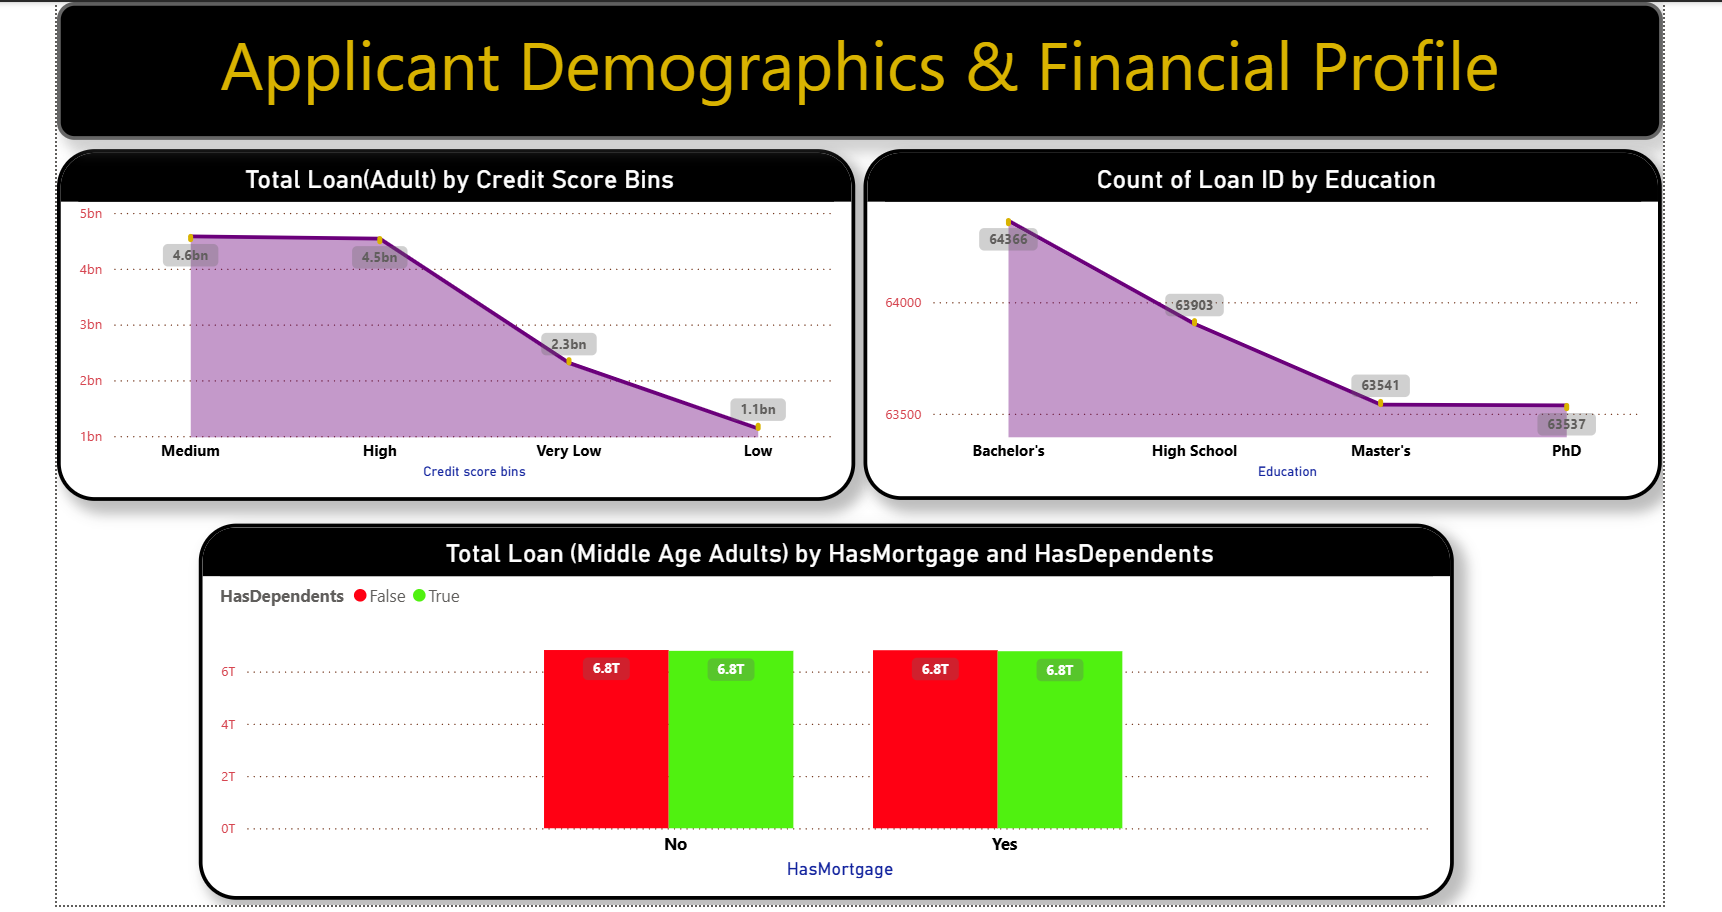

This screenshot's page, from the dashboard's own definition file:
{"tool":"powerbi","page":{"name":"Applicant Demographics & Financial Profile","canvas":[1280,720],"ordinal":1},"visuals":[{"type":"lineChart","title":"Total Loan(Adult) by Credit Score Bins","fields":{"Category":["Loan_default.Credit score bins"],"Y":["Measure Table 2.total loan(adult) by credit score bins"]},"box":[0,117.6,636,280],"z":0},{"type":"textbox","box":[0,0,1279.7,109.9],"z":1000},{"type":"clusteredColumnChart","title":"Total Loan (Middle Age Adults) by HasMortgage and HasDependents","fields":{"Y":["Measure Table 2.total loan (middle age adults)"],"Category":["Loan_default.HasMortgage"],"Series":["Loan_default.HasDependents"]},"box":[112.5,415.5,1000,300],"z":2000},{"type":"lineChart","fields":{"Y":["Measure Table 2.loans by education type"],"Category":["Loan_default.Education"]},"box":[643,117.6,636.6,280],"z":3000}]}

Visuals, with their boxes in screenshot pixels (x1, y1, x2, y2):
"Total Loan(Adult) by Credit Score Bins" lineChart: 58 142 851 491
textbox: 58 0 1654 133
"Total Loan (Middle Age Adults) by HasMortgage and HasDependents" clusteredColumnChart: 199 514 1445 888
lineChart - Measure Table 2.loans by education type x Loan_default.Education: 860 142 1654 491
